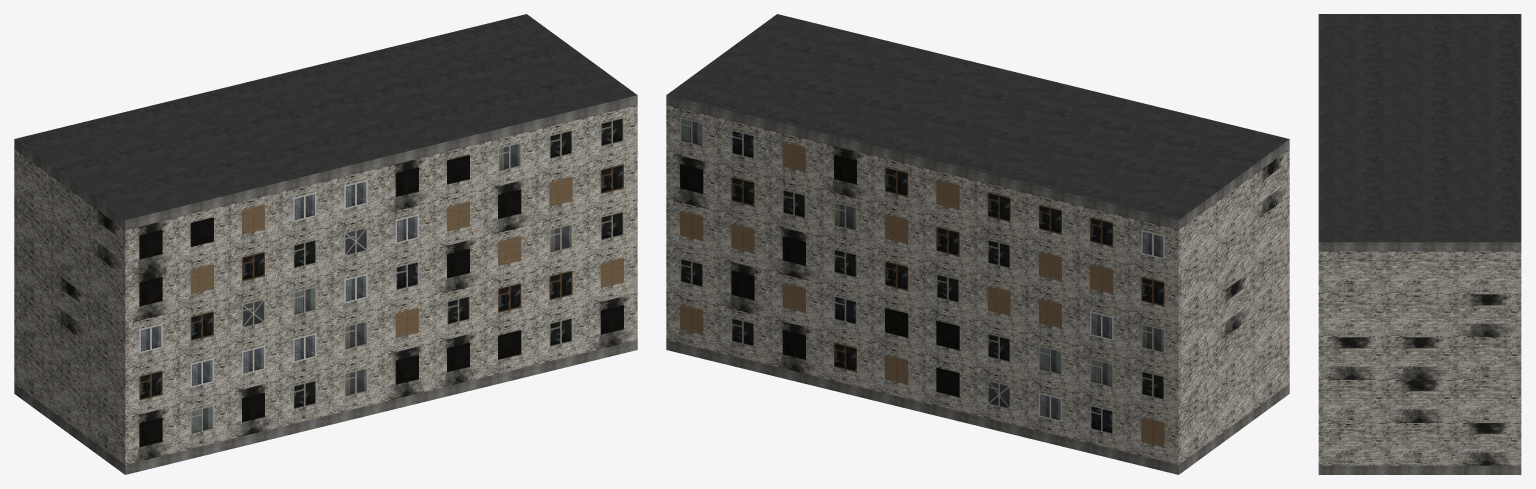
The model's file is S1U_Skyline_Brick.fbx.
3 renders of one model, left to right at view 1: azimuth 30°, elevation 25°; view 2: azimuth 150°, elevation 25°; view 3: azimuth 270°, elevation 25°, orthographic. The views are drawn at different scales.
Visible parts, largest first — view 1: S1U_Skyline_Brick; view 2: S1U_Skyline_Brick; view 3: S1U_Skyline_Brick.
Part boxes in pixels (x1,y1,x2,y2): S1U_Skyline_Brick: (14, 14, 637, 474); S1U_Skyline_Brick: (666, 14, 1289, 474); S1U_Skyline_Brick: (1318, 14, 1521, 474).
Bounding box in the file's own units: 32 × 15.2 × 12.04.
